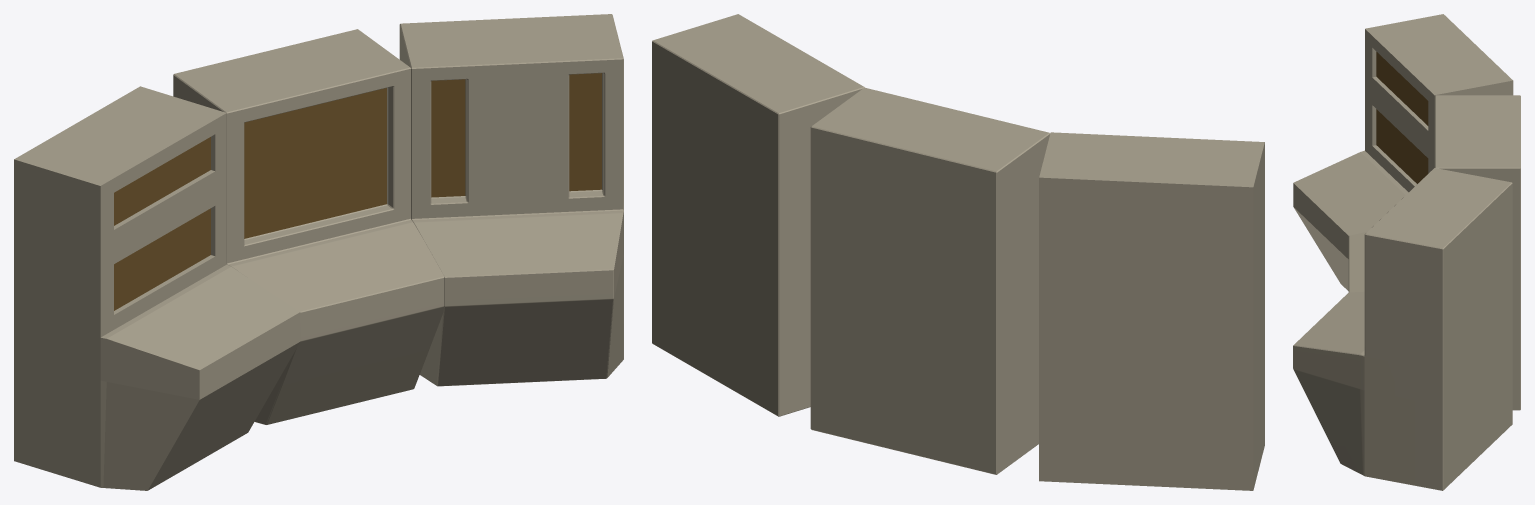
File: mesaControl.fbx
The picture shows the model from 3 angles, left to right: view 1: azimuth 30°, elevation 25°; view 2: azimuth 150°, elevation 25°; view 3: azimuth 270°, elevation 25°; orthographic projection. The views are drawn at different scales.
Parts seen in each view (by area): view 1: pasted__pCube1, pasted__pasted__pCube1, pCube1; view 2: pCube1, pasted__pCube1, pasted__pasted__pCube1; view 3: pasted__pasted__pCube1, pasted__pCube1, pCube1.
Part boxes in pixels (box(x1,y1,x2,y2)): pasted__pCube1: box(14, 86, 300, 490); pasted__pasted__pCube1: box(399, 14, 623, 386); pCube1: box(173, 29, 444, 424); pCube1: box(810, 87, 1050, 474); pasted__pCube1: box(1039, 132, 1264, 490); pasted__pasted__pCube1: box(652, 14, 864, 416); pasted__pasted__pCube1: box(1293, 168, 1512, 490); pasted__pCube1: box(1293, 14, 1513, 290); pCube1: box(1348, 95, 1520, 410).
Bounding box in the file's own units: 16.12 × 7.77 × 6.62.
